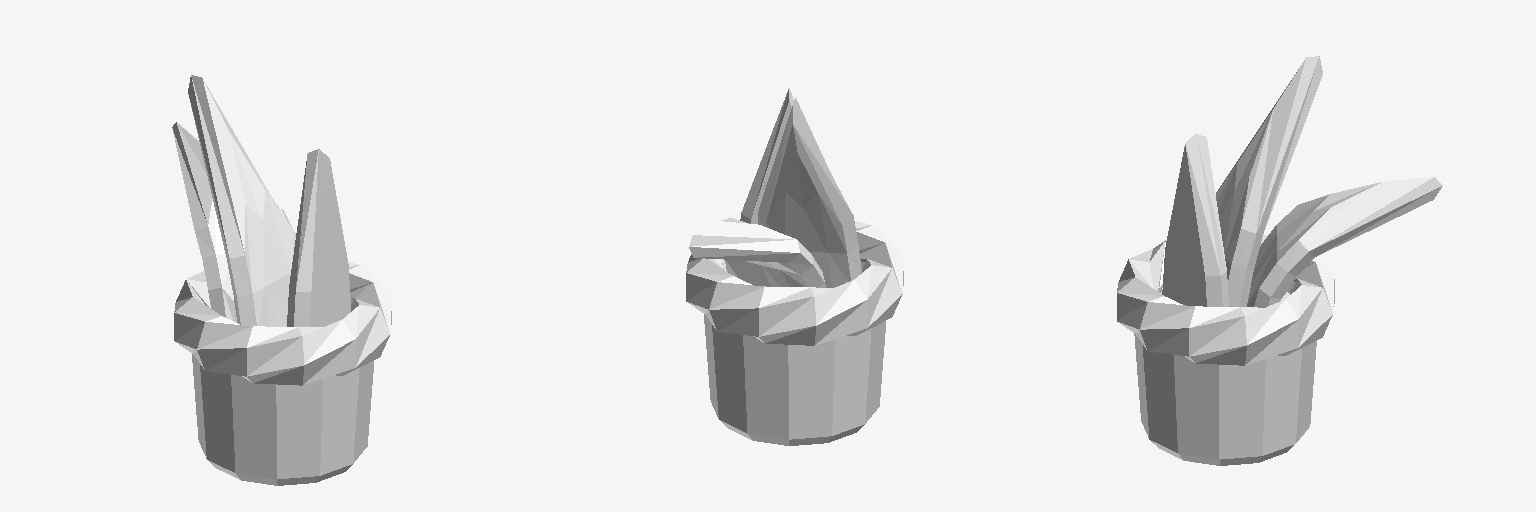
File: Tiny Sansevieria.obj
3 renders of one model, left to right at view 1: azimuth 30°, elevation 25°; view 2: azimuth 150°, elevation 25°; view 3: azimuth 270°, elevation 25°, orthographic.
Parts seen in each view (by area): view 1: Tiny Sansevieria; view 2: Tiny Sansevieria; view 3: Tiny Sansevieria.
Part boxes in pixels (x1,y1,x2,y2): Tiny Sansevieria: (172, 75, 391, 485); Tiny Sansevieria: (686, 88, 903, 445); Tiny Sansevieria: (1117, 56, 1442, 465).
Bounding box in the file's own units: 0.4911 × 0.8663 × 0.7171.